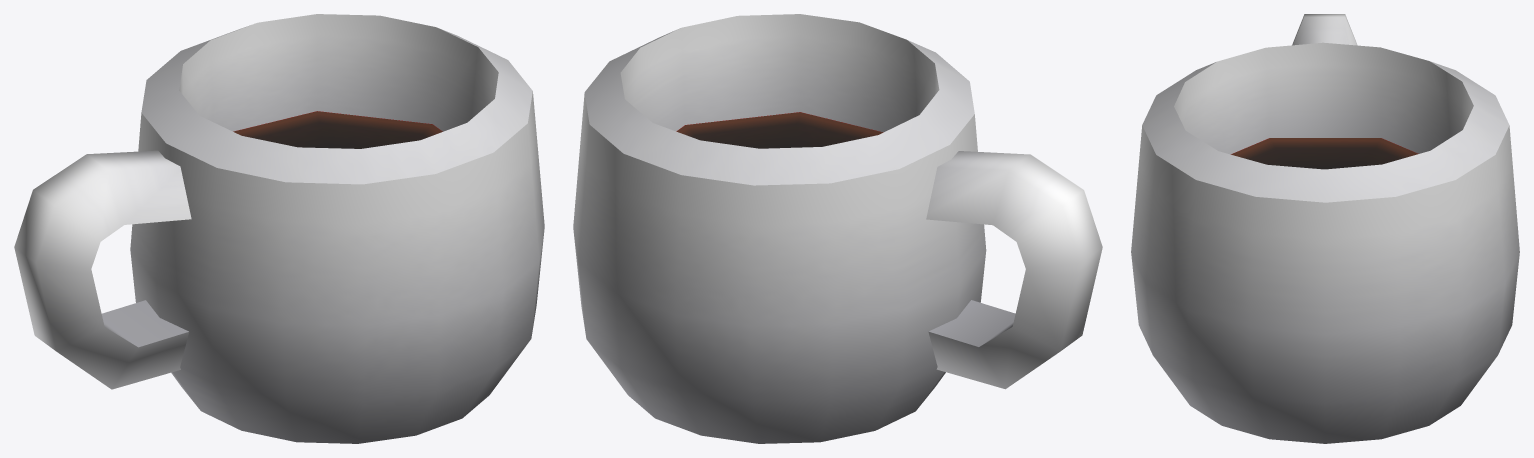
Rendered from m_Espresso01.fbx.
3 views of the same model, side by side, from view 1: azimuth 30°, elevation 25°; view 2: azimuth 150°, elevation 25°; view 3: azimuth 270°, elevation 25° (orthographic). The views are drawn at different scales.
Visible parts, largest first — view 1: m_EspressoCup01_Full; view 2: m_EspressoCup01_Full; view 3: m_EspressoCup01_Full.
Boxes of the visible parts, left/top/right/bottom form: m_EspressoCup01_Full: left=14, top=14, right=544, bottom=443; m_EspressoCup01_Full: left=573, top=14, right=1102, bottom=443; m_EspressoCup01_Full: left=1131, top=14, right=1519, bottom=443.
Size of the model in its own units: 11.19 by 6.43 by 8.2.
